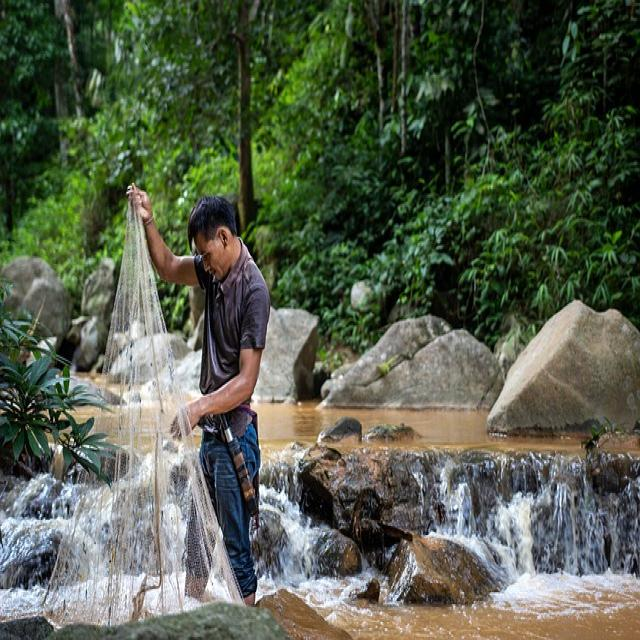Real human 2: (120, 170, 296, 617)
